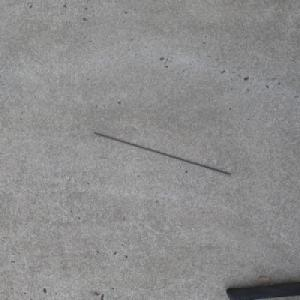LuggagePart: (91, 131, 231, 175)
